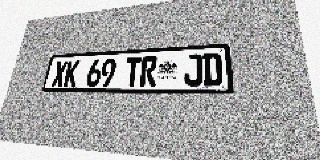6: (85, 59, 103, 87)
9: (99, 58, 117, 87)
D: (203, 53, 223, 86)
J: (184, 54, 202, 86)
K: (63, 60, 80, 87)
R: (140, 56, 158, 86)
T: (124, 57, 142, 86)
X: (51, 61, 68, 87)
